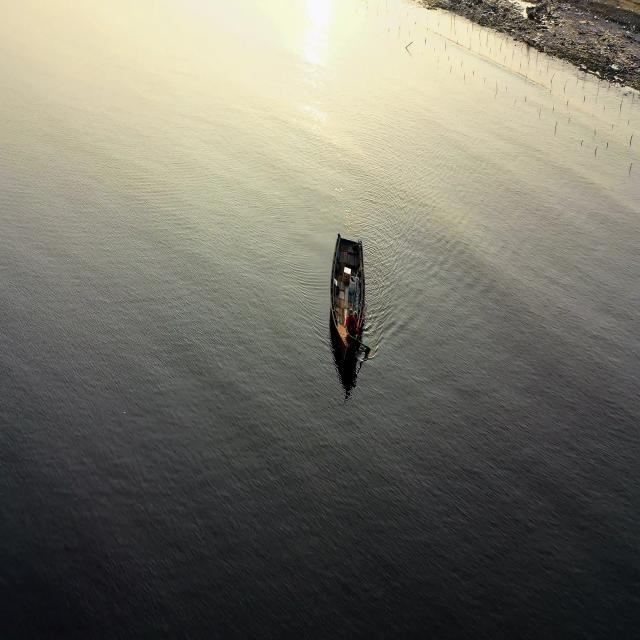ship: (326, 232, 366, 371)
